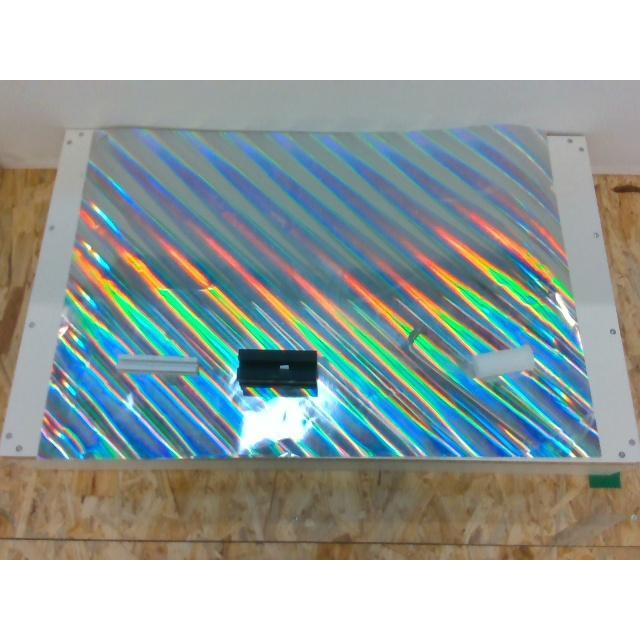F20_20_G: (116, 354, 198, 374)
S40_40_B: (236, 347, 320, 389)
Spacer: (472, 345, 536, 379)
